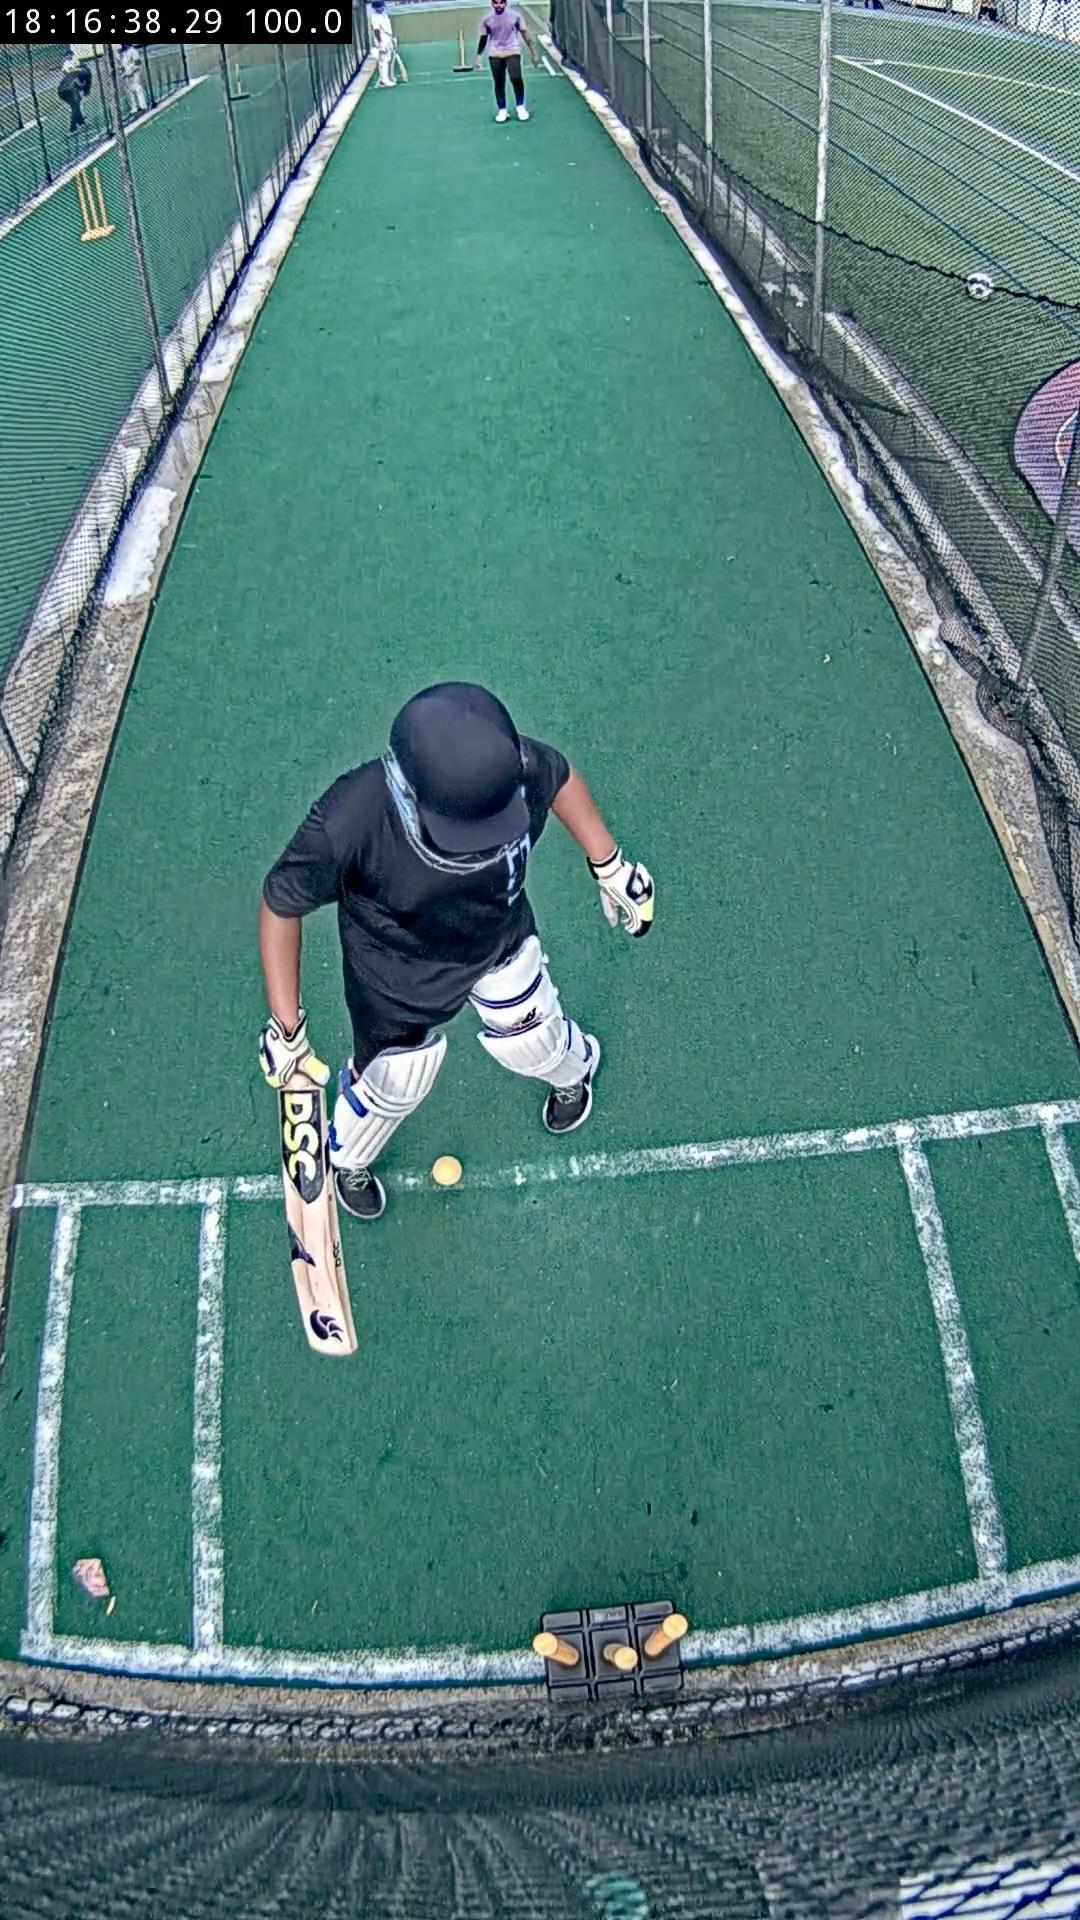ball: (431, 1155, 462, 1185)
bat: (277, 1076, 356, 1357)
gloves: (588, 848, 657, 938), (258, 1009, 326, 1088)
helmet: (390, 683, 529, 855)
pads: (330, 1031, 446, 1170), (476, 1017, 588, 1088)
stumps: (533, 1601, 686, 1702)
